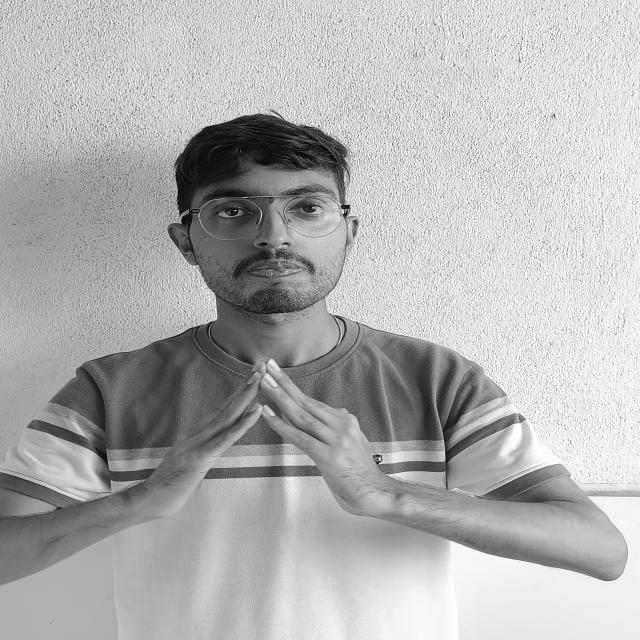Home: (111, 353, 456, 531)
